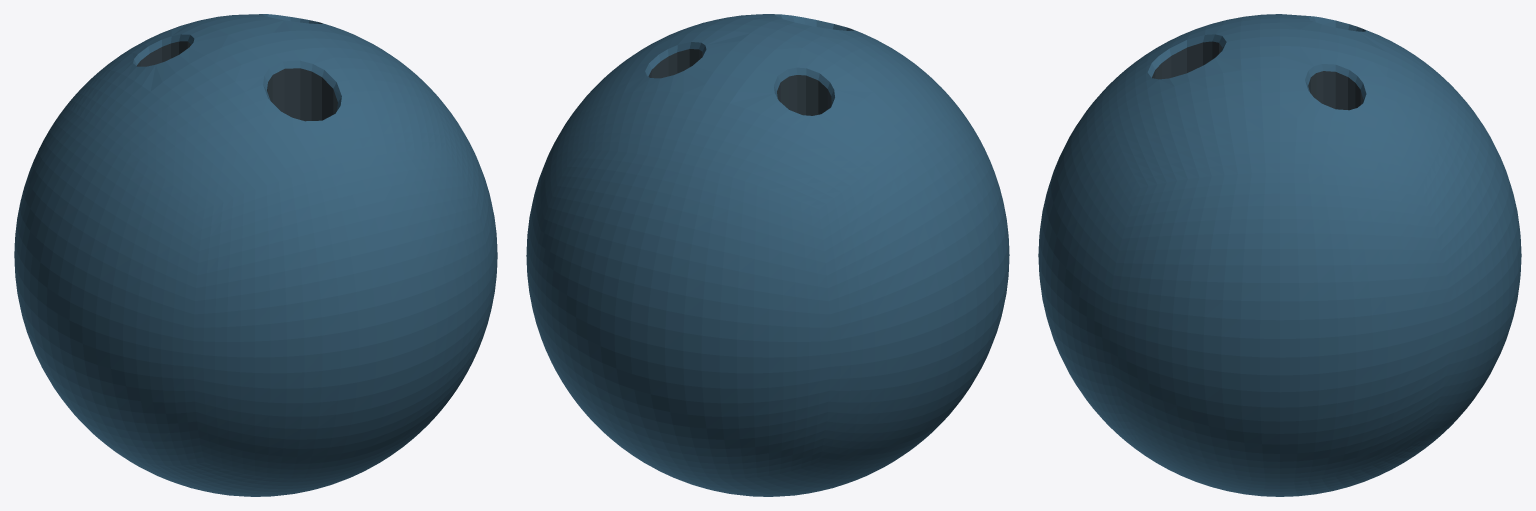
3 renders of one model, left to right at view 1: azimuth 30°, elevation 25°; view 2: azimuth 150°, elevation 25°; view 3: azimuth 270°, elevation 25°, orthographic.
Parts seen in each view (by area): view 1: WholeSphericalBodyAndThreeClosedBottomWells; view 2: WholeSphericalBodyAndThreeClosedBottomWells; view 3: WholeSphericalBodyAndThreeClosedBottomWells.
Part boxes in pixels (bbox=[...]): WholeSphericalBodyAndThreeClosedBottomWells: bbox=[14, 14, 497, 496]; WholeSphericalBodyAndThreeClosedBottomWells: bbox=[526, 14, 1009, 496]; WholeSphericalBodyAndThreeClosedBottomWells: bbox=[1038, 14, 1521, 496].
Size of the model in its own units: 0.22 by 0.218 by 0.22.
